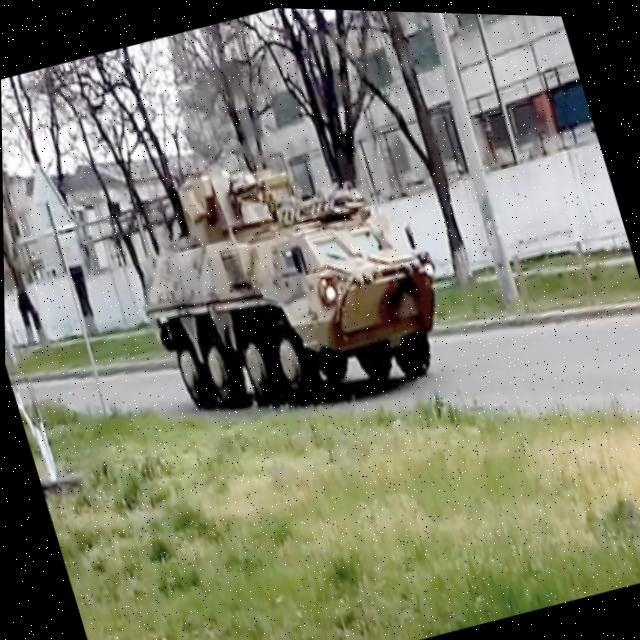MIL_APC: (110, 105, 477, 463)
